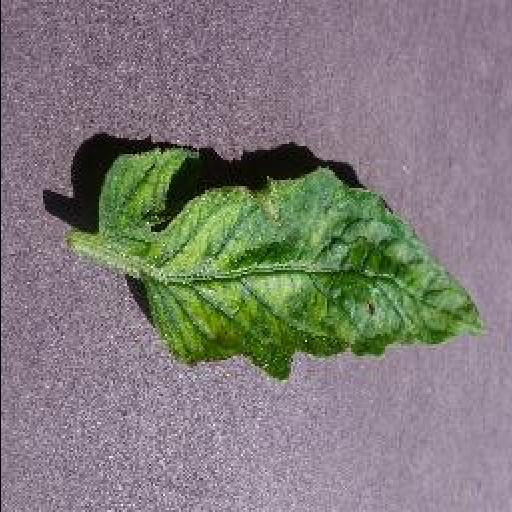disease_tomato: (90, 140, 490, 382)
